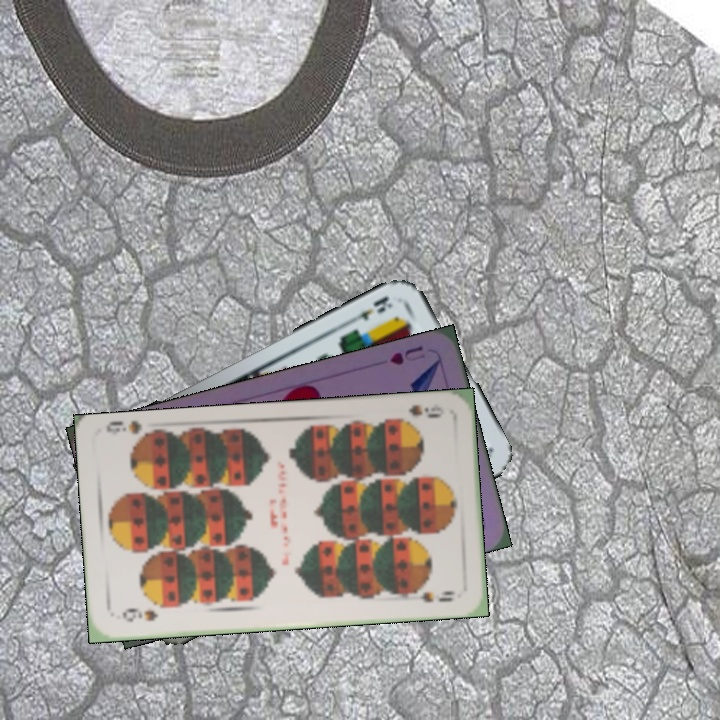EK: (349, 292, 395, 324)
HU: (385, 341, 428, 368)
S9: (390, 400, 447, 427), (118, 604, 160, 625)
